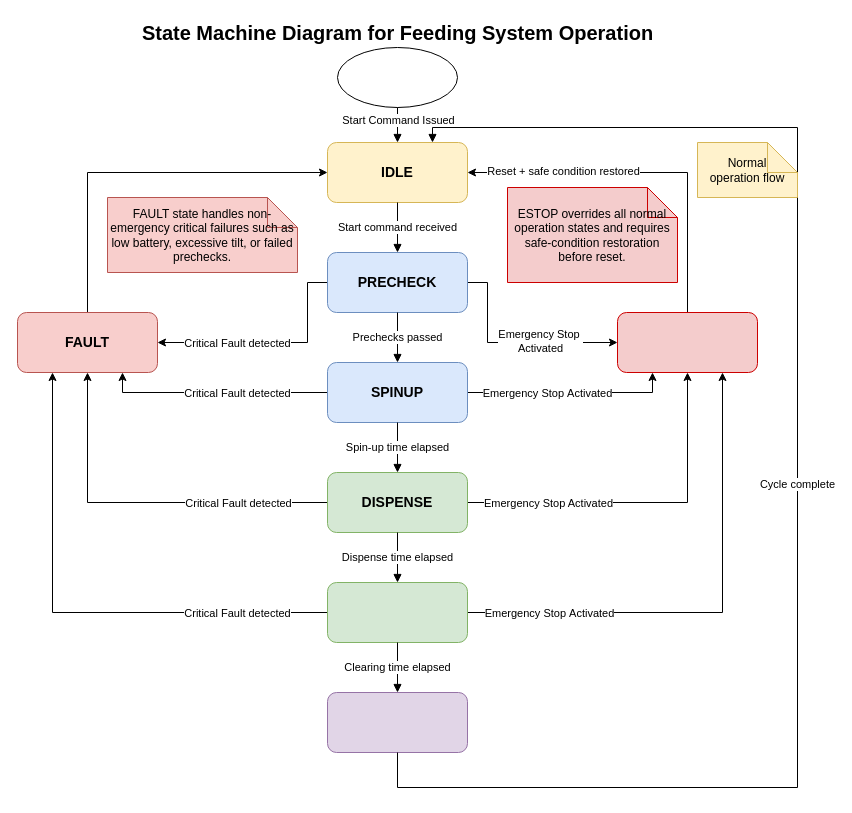
The diagram is 852 pixels wide and 813 high, and some of its shapes have lost their labels. The centre of each missing label's shape, as x and y in pixels:
CLEARING: (397,612)
COMPLETE: (397,722)
ESTOP: (687,342)
Start Command: (397,77)
